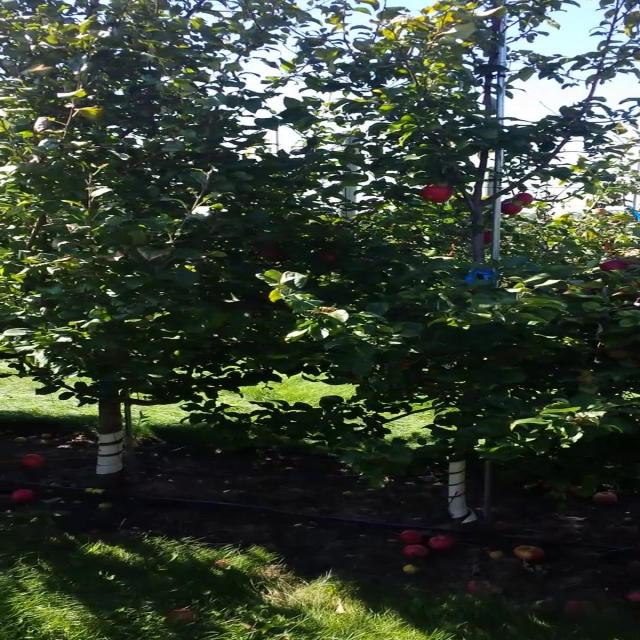apple: (420, 184, 453, 202), (253, 244, 282, 260), (600, 259, 629, 271), (500, 201, 522, 215), (513, 192, 533, 205), (607, 349, 631, 359), (318, 251, 338, 262), (578, 370, 593, 382), (269, 289, 282, 302), (396, 359, 411, 370), (482, 230, 493, 244)
